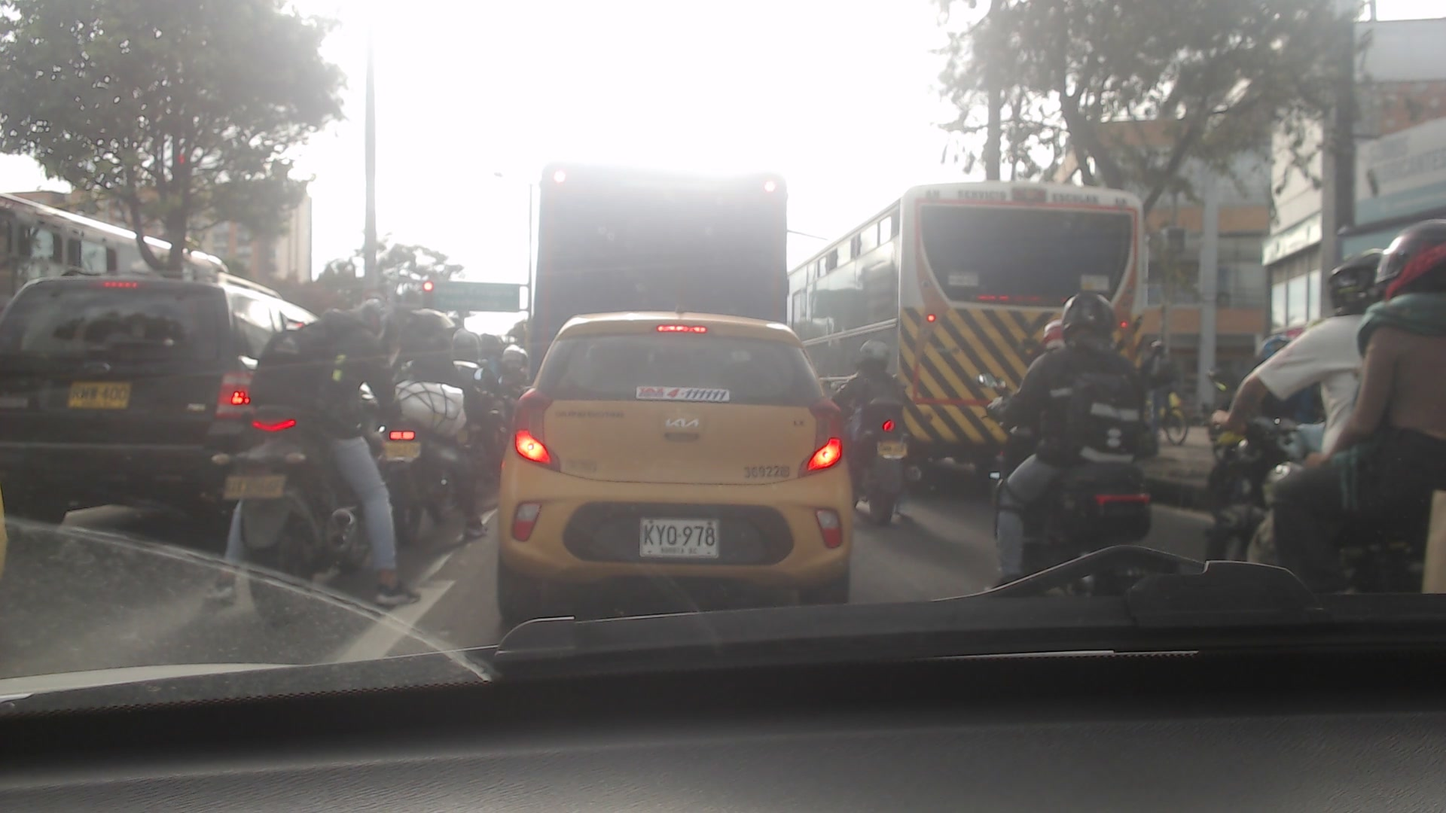bus: (769, 185, 1154, 466)
car: (495, 308, 848, 604), (0, 276, 318, 527)
motorcycle: (1194, 410, 1446, 585), (973, 395, 1158, 600), (229, 404, 400, 621), (362, 413, 490, 541), (850, 407, 918, 537)
person: (214, 297, 405, 615), (976, 289, 1162, 559), (1207, 244, 1386, 470), (1346, 222, 1441, 524), (386, 309, 486, 500), (837, 333, 919, 506)
truck: (527, 160, 798, 342)
